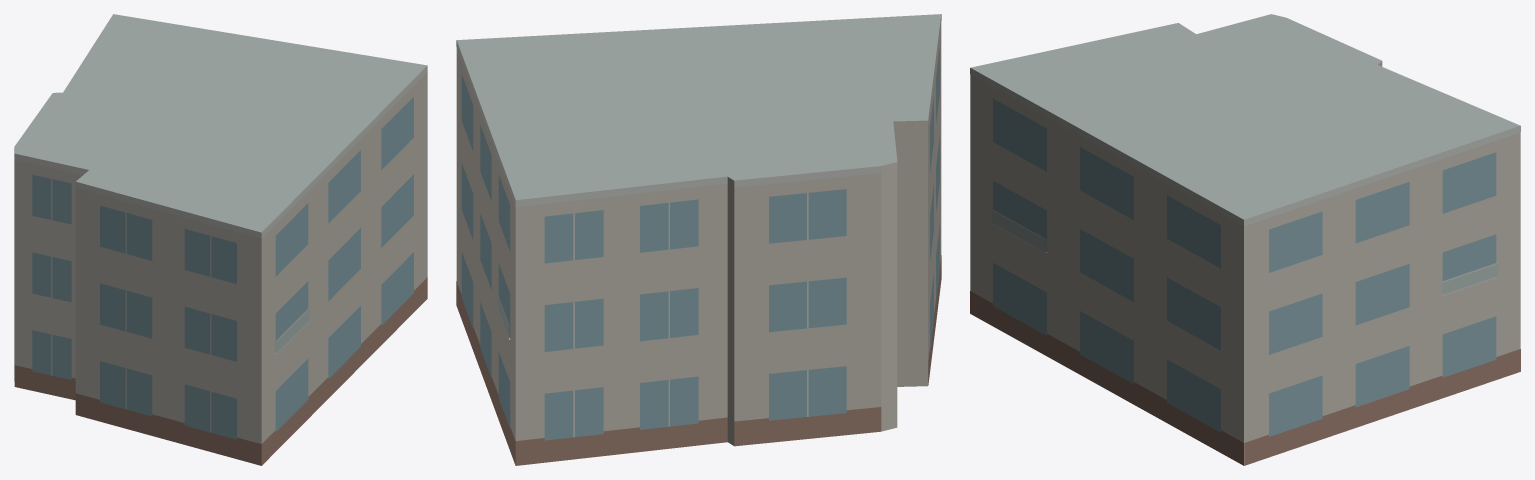
Rendered from survey-upis-32491663.glb.
3 renders of one model, left to right at view 1: azimuth 30°, elevation 25°; view 2: azimuth 150°, elevation 25°; view 3: azimuth 270°, elevation 25°, orthographic. The views are drawn at different scales.
Visible parts, largest first — view 1: survey-upis-32491663.tmp; view 2: survey-upis-32491663.tmp; view 3: survey-upis-32491663.tmp.
Boxes of the visible parts, x1=… form: survey-upis-32491663.tmp: x1=14, y1=14, x2=427, y2=465; survey-upis-32491663.tmp: x1=456, y1=14, x2=941, y2=465; survey-upis-32491663.tmp: x1=970, y1=14, x2=1520, y2=465.
Bounding box in the file's own units: 16.43 × 9.15 × 18.57.
